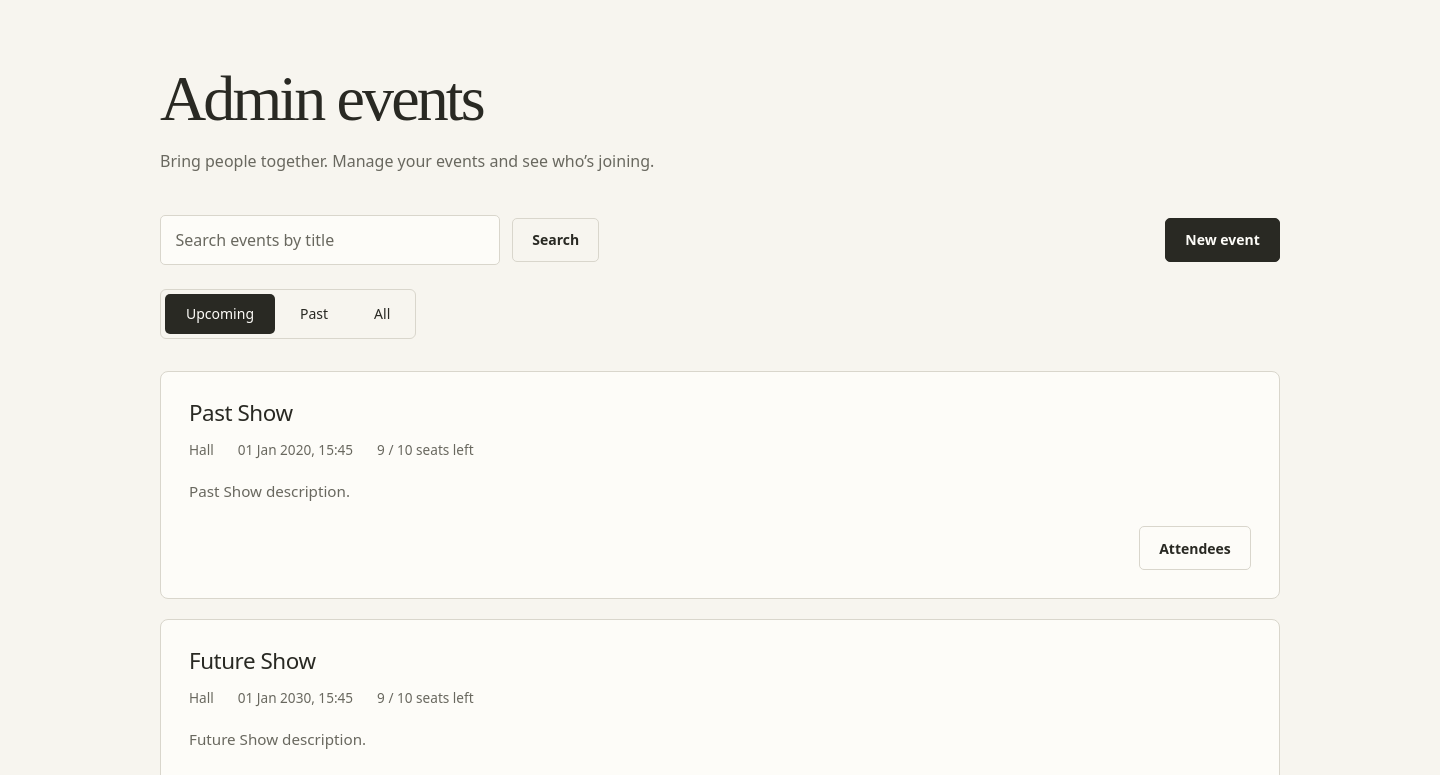
Test: started events are read-only › shows descriptions inline without duplicate metadata or detail requests and keeps attendees reachable
expect the list item "Past Show" is shown: met, box [189,397,292,428]
expect the text "Past Show description." is shown: met, box [189,480,350,500]
Click the 1st button "Attendees": (1195, 548) [1139,526,1251,570]
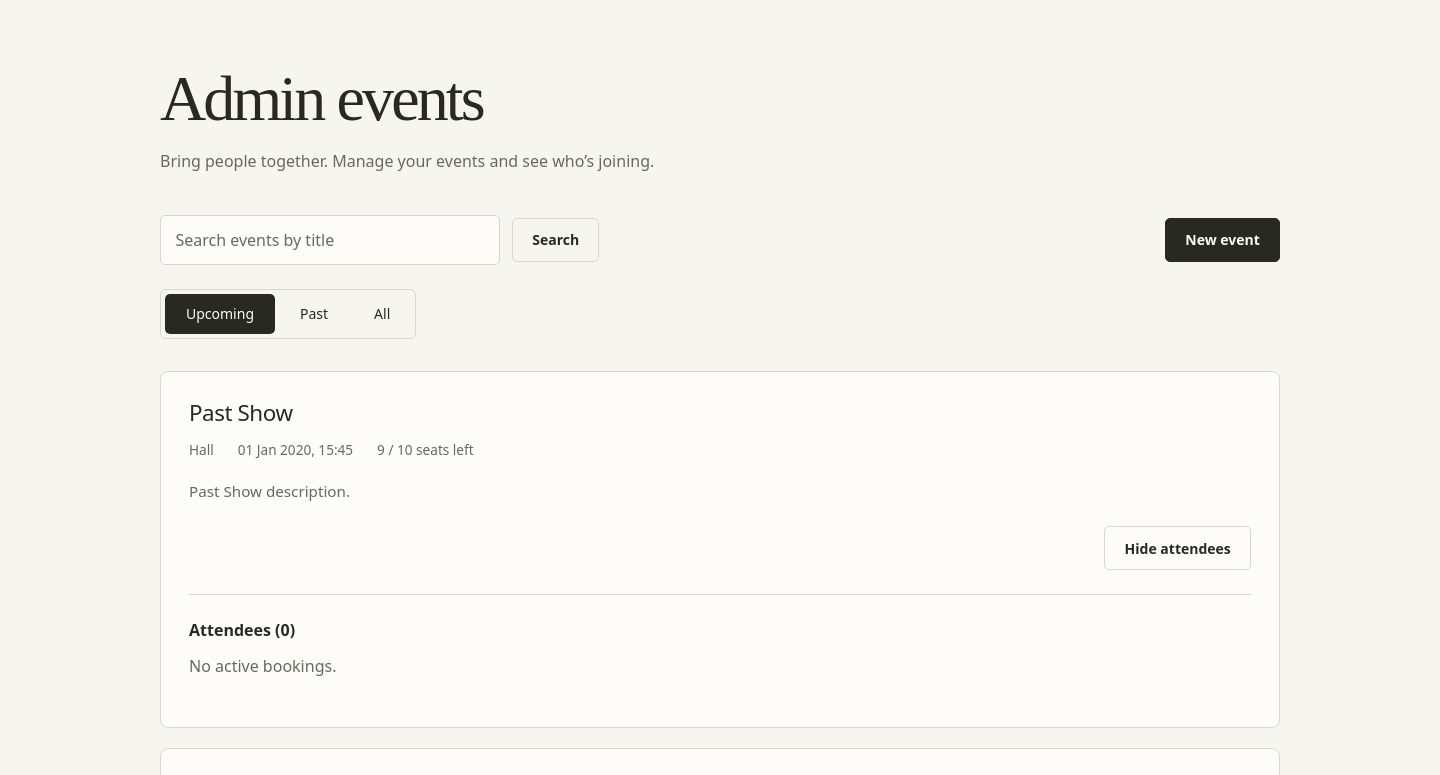
expect the heading "Attendees (0)" is shown: met, box [189,619,295,641]
